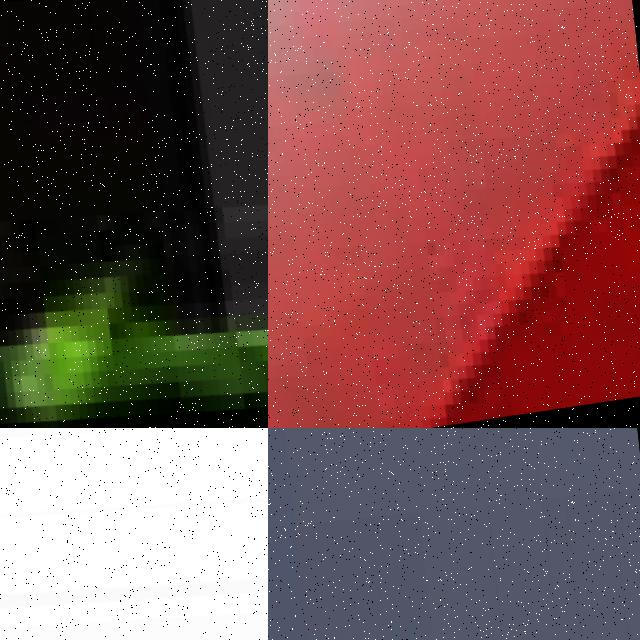0: (0, 0, 268, 428)
drone: (268, 0, 640, 428), (0, 428, 268, 640)
